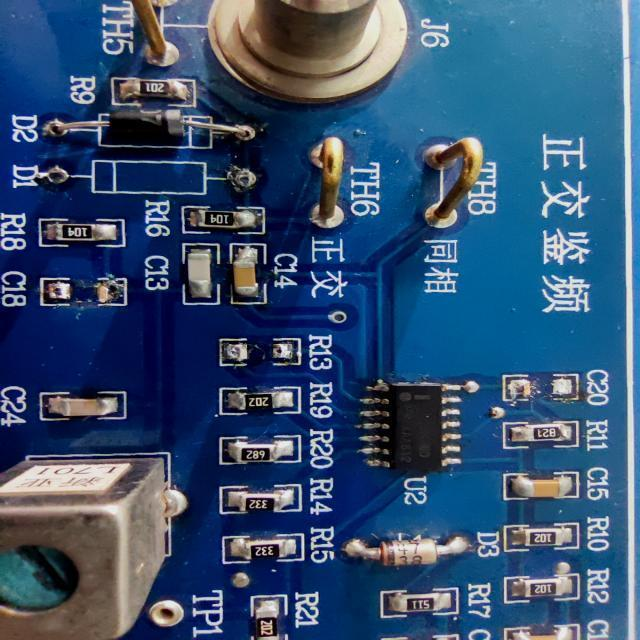Missing component: (7, 154, 270, 201), (0, 265, 132, 312), (213, 332, 339, 372), (499, 368, 614, 408)
